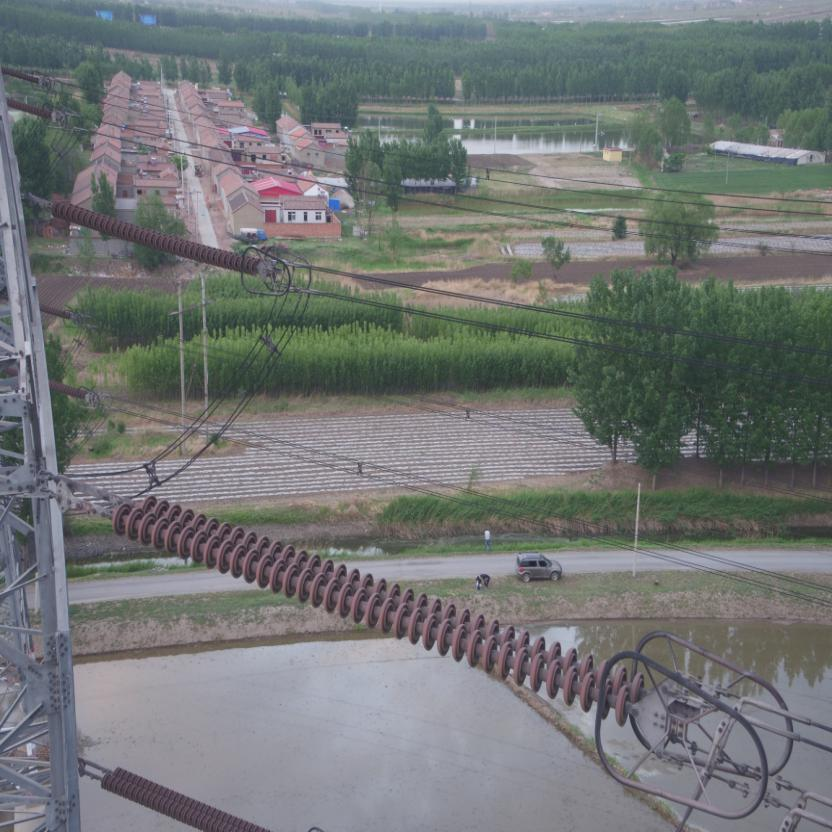insulator: (86, 490, 654, 729), (41, 197, 266, 276), (88, 761, 268, 830)
